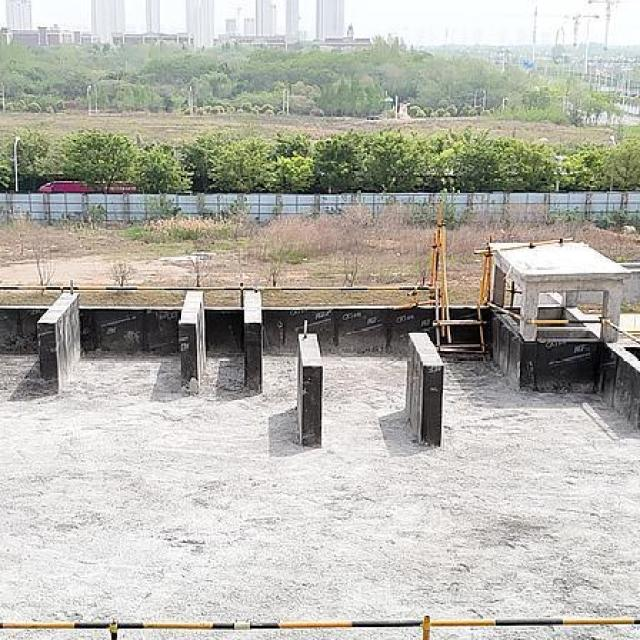edge_guardrail: (0, 613, 640, 640), (0, 282, 434, 309), (525, 317, 640, 345), (485, 300, 522, 320)
